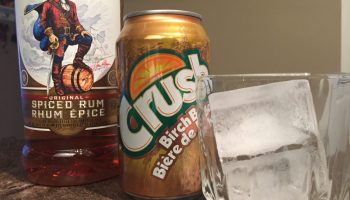can: (115, 8, 214, 200)
